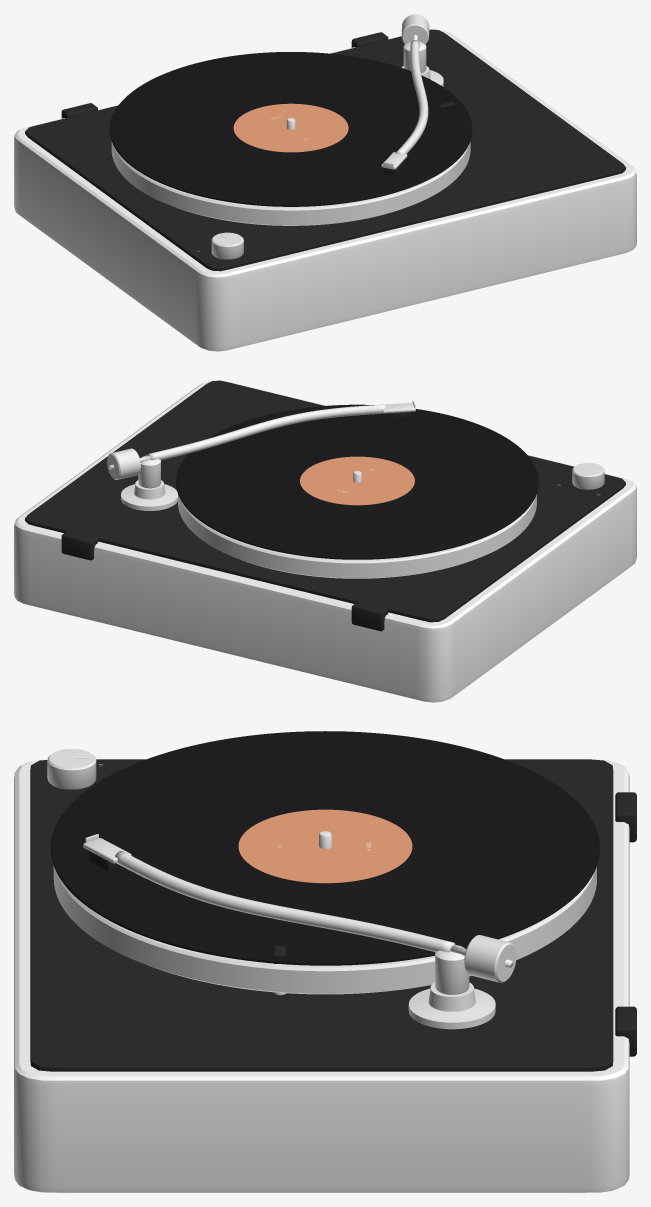
File: turntable.glb
The picture shows the model from 3 angles, top to bottom: view 1: azimuth 30°, elevation 25°; view 2: azimuth 150°, elevation 25°; view 3: azimuth 270°, elevation 25°; orthographic projection. The views are drawn at different scales.
Parts seen in each view (by area): view 1: Plinth, Record, Top_Plate, Platter, Label, Tonearm, Speed_Knob, Counterweight; view 2: Plinth, Record, Top_Plate, Platter, Label, Tonearm, Arm_Base, Counterweight, Hinge_-1, Hinge_1, Speed_Knob, Arm_Pivot; view 3: Record, Plinth, Top_Plate, Platter, Label, Tonearm, Arm_Base, Counterweight, Speed_Knob, Arm_Pivot, Hinge_1, Hinge_-1.
Boxes of the visible parts, x1,y1,x2,y2 form: Plinth: [14, 29, 636, 351]; Record: [109, 52, 472, 206]; Top_Plate: [25, 29, 625, 271]; Platter: [111, 141, 470, 225]; Label: [233, 103, 348, 152]; Tonearm: [395, 40, 428, 154]; Speed_Knob: [211, 232, 243, 259]; Counterweight: [401, 14, 429, 44]; Plinth: [14, 380, 636, 702]; Record: [176, 404, 538, 559]; Top_Plate: [25, 380, 625, 622]; Platter: [178, 494, 536, 578]; Label: [300, 456, 414, 505]; Tonearm: [147, 404, 385, 460]; Arm_Base: [121, 480, 177, 510]; Counterweight: [107, 448, 141, 479]; Hinge_-1: [351, 601, 388, 631]; Hinge_1: [61, 530, 97, 560]; Speed_Knob: [572, 463, 604, 489]; Arm_Pivot: [138, 455, 160, 488]; Record: [51, 731, 599, 965]; Plinth: [14, 759, 629, 1192]; Top_Plate: [30, 759, 613, 1071]; Platter: [53, 865, 596, 994]; Label: [238, 809, 412, 883]; Tonearm: [115, 851, 455, 952]; Arm_Base: [408, 982, 495, 1029]; Counterweight: [464, 935, 516, 982]; Speed_Knob: [47, 749, 96, 789]; Arm_Pivot: [435, 945, 469, 994]; Hinge_1: [615, 1006, 636, 1056]; Hinge_-1: [615, 792, 636, 842].
Size of the model in its own units: 42 by 12.7 by 34.4.
